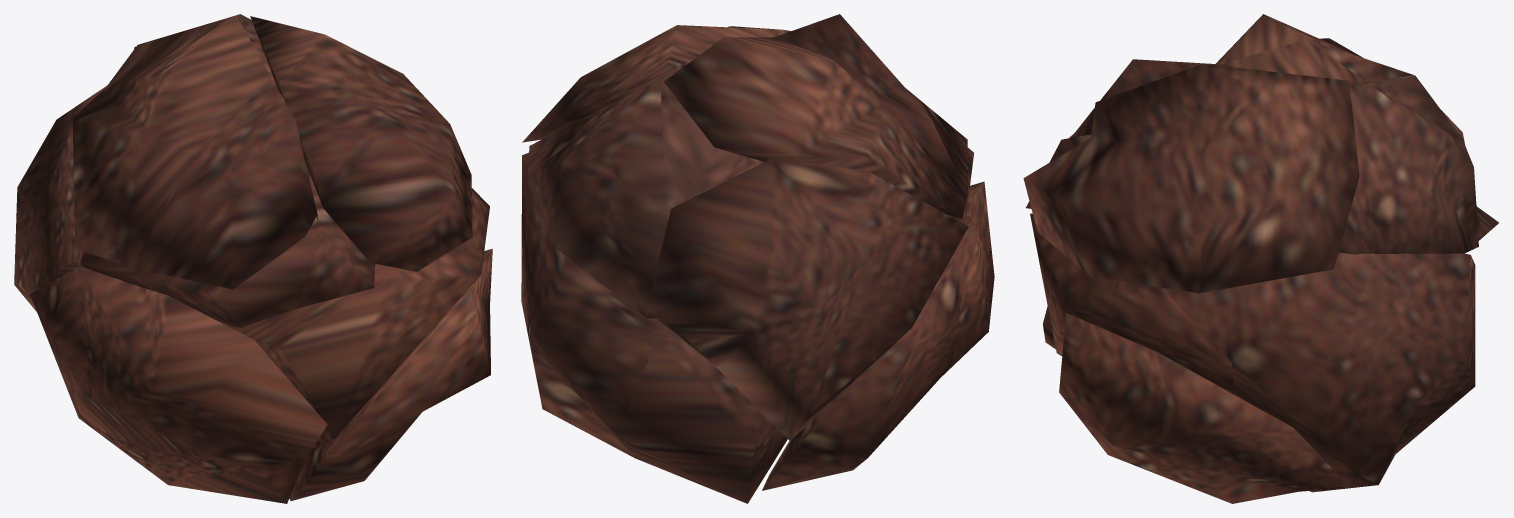
Rendered from Dirt_Cracked.fbx.
The picture shows the model from 3 angles, left to right: view 1: azimuth 30°, elevation 25°; view 2: azimuth 150°, elevation 25°; view 3: azimuth 270°, elevation 25°; orthographic projection.
Visible parts, largest first — view 1: Icosphere_cell.005, Icosphere_cell.003, Icosphere_cell.002, Icosphere_cell.001, Icosphere_cell.004, Icosphere_cell.006, Icosphere_cell; view 2: Icosphere_cell, Icosphere_cell.001, Icosphere_cell.005, Icosphere_cell.006, Icosphere_cell.003, Icosphere_cell.002; view 3: Icosphere_cell.002, Icosphere_cell.001, Icosphere_cell.004, Icosphere_cell.006, Icosphere_cell.005, Icosphere_cell.
Part boxes in pixels (x1,y1,x2,y2): Icosphere_cell.005: (72,15,319,289); Icosphere_cell.003: (30,266,327,503); Icosphere_cell.002: (250,16,472,271); Icosphere_cell.001: (223,188,489,449); Icosphere_cell.004: (289,248,492,500); Icosphere_cell.006: (81,14,375,327); Icosphere_cell: (14,86,106,311); Icosphere_cell: (646,158,968,440); Icosphere_cell.001: (521,152,787,503); Icosphere_cell.005: (664,14,968,218); Icosphere_cell.006: (528,79,973,318); Icosphere_cell.003: (762,181,994,490); Icosphere_cell.002: (522,25,790,142); Icosphere_cell.002: (1023,63,1359,293); Icosphere_cell.001: (1030,213,1475,492); Icosphere_cell.004: (1059,313,1349,503); Icosphere_cell.006: (1026,75,1478,254); Icosphere_cell.005: (1069,14,1414,137); Icosphere_cell: (1350,78,1498,240).
Size of the model in its own units: 0.7825 by 0.773 by 0.757.
Materials: 1 (1 with a texture image).
